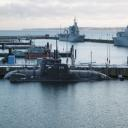submarine: (9, 62, 95, 82)
